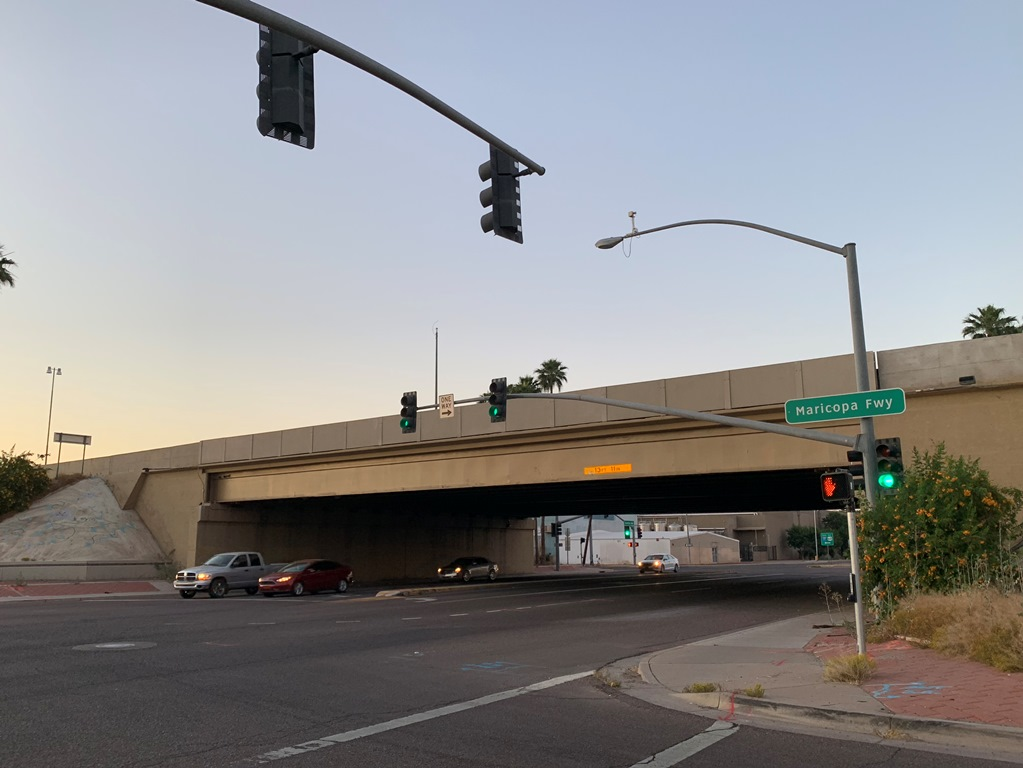bridge: (34, 330, 1018, 507)
